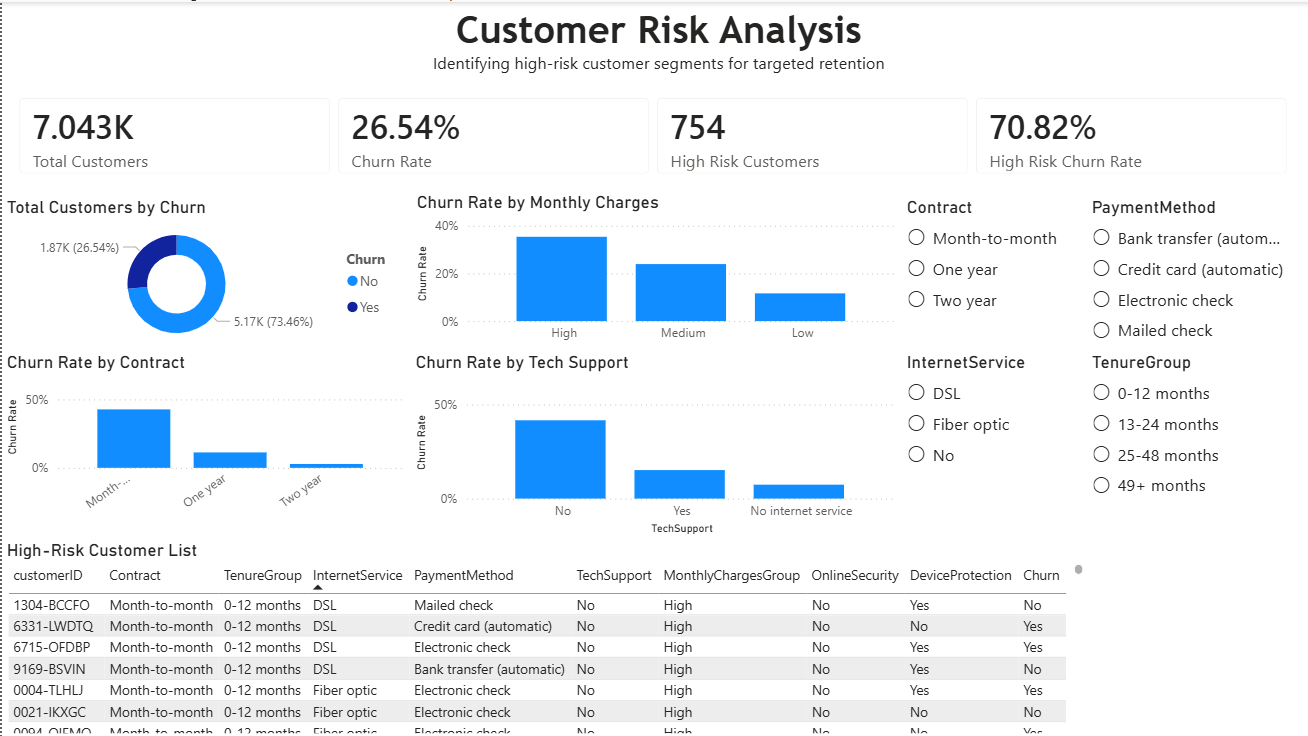

The dashboard page shown, as its layout file describes it:
{"tool":"powerbi","page":{"name":"Customer Risk Analysis","canvas":[1280,720],"ordinal":1},"visuals":[{"type":"textbox","box":[9.8,0,1265.6,77],"z":0},{"type":"cardVisual","fields":{"Data":["Telco-Customer-Churn-Cleaned.Total Customers","Telco-Customer-Churn-Cleaned.Churn Rate","Telco-Customer-Churn-Cleaned.High Risk Customers","Telco-Customer-Churn-Cleaned.High Risk Churn Rate"]},"box":[0,77,1275.4,108.8],"z":1000},{"type":"donutChart","fields":{"Category":["Telco-Customer-Churn-Cleaned.Churn"],"Y":["Telco-Customer-Churn-Cleaned.Total Customers"]},"box":[0,190.8,399.9,151.6],"z":2000},{"type":"clusteredColumnChart","fields":{"Category":["Telco-Customer-Churn-Cleaned.Contract"],"Y":["Telco-Customer-Churn-Cleaned.Churn Rate"]},"box":[0,342.4,399.9,167.5],"z":3000},{"type":"clusteredColumnChart","title":"Churn Rate by Monthly Charges","fields":{"Category":["Telco-Customer-Churn-Cleaned.MonthlyChargesGroup"],"Y":["Telco-Customer-Churn-Cleaned.Churn Rate"]},"box":[401.1,185.9,480.6,156.5],"z":4000},{"type":"clusteredColumnChart","title":"Churn Rate by Tech Support","fields":{"Category":["Telco-Customer-Churn-Cleaned.TechSupport"],"Y":["Telco-Customer-Churn-Cleaned.Churn Rate"]},"box":[399.9,342.4,480.6,183.4],"z":5000},{"type":"tableEx","title":"High-Risk Customer List","fields":{"Values":["Telco-Customer-Churn-Cleaned.customerID","Telco-Customer-Churn-Cleaned.Contract","Telco-Customer-Churn-Cleaned.TenureGroup","Telco-Customer-Churn-Cleaned.InternetService","Telco-Customer-Churn-Cleaned.PaymentMethod","Telco-Customer-Churn-Cleaned.TechSupport","Telco-Customer-Churn-Cleaned.MonthlyChargesGroup","Telco-Customer-Churn-Cleaned.OnlineSecurity","Telco-Customer-Churn-Cleaned.DeviceProtection","Telco-Customer-Churn-Cleaned.Churn"]},"box":[0,525.8,1062.6,194.4],"z":6000},{"type":"listSlicer","fields":{"Values":["Telco-Customer-Churn-Cleaned.Contract"]},"box":[880.4,190.8,182.2,130.8],"z":7000},{"type":"listSlicer","fields":{"Values":["Telco-Customer-Churn-Cleaned.InternetService"]},"box":[880.4,327.7,181,183.4],"z":8000},{"type":"listSlicer","fields":{"Values":["Telco-Customer-Churn-Cleaned.PaymentMethod"]},"box":[1061.4,190.8,214,151.6],"z":9000},{"type":"listSlicer","fields":{"Values":["Telco-Customer-Churn-Cleaned.TenureGroup"]},"box":[1061.4,342.4,205.4,152.9],"z":10000}]}

Visuals, with their boxes in screenshot pixels (x1, y1, x2, y2), scaled from the page's 1280x720 canvas onto the 1308x736 screenshot:
textbox: <box>10,0,1303,79</box>
cardVisual - Telco-Customer-Churn-Cleaned.Total Customers x Telco-Customer-Churn-Cleaned.Churn Rate: <box>0,79,1303,190</box>
donutChart - Telco-Customer-Churn-Cleaned.Churn x Telco-Customer-Churn-Cleaned.Total Customers: <box>0,195,409,350</box>
clusteredColumnChart - Telco-Customer-Churn-Cleaned.Contract x Telco-Customer-Churn-Cleaned.Churn Rate: <box>0,350,409,521</box>
"Churn Rate by Monthly Charges" clusteredColumnChart: <box>410,190,901,350</box>
"Churn Rate by Tech Support" clusteredColumnChart: <box>409,350,900,537</box>
"High-Risk Customer List" tableEx: <box>0,537,1086,735</box>
listSlicer - Telco-Customer-Churn-Cleaned.Contract: <box>900,195,1086,329</box>
listSlicer - Telco-Customer-Churn-Cleaned.InternetService: <box>900,335,1085,522</box>
listSlicer - Telco-Customer-Churn-Cleaned.PaymentMethod: <box>1085,195,1303,350</box>
listSlicer - Telco-Customer-Churn-Cleaned.TenureGroup: <box>1085,350,1295,506</box>
